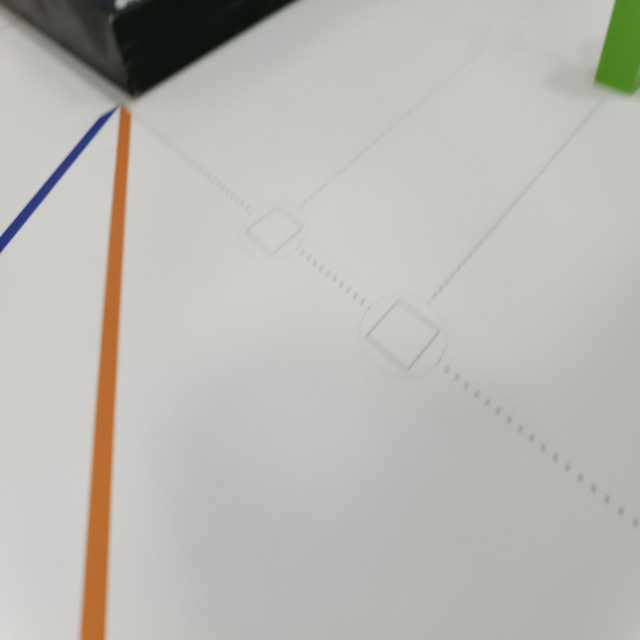blue line: (1, 103, 119, 258)
green rectangular prism: (592, 0, 640, 100)
orange line: (73, 98, 132, 640)
